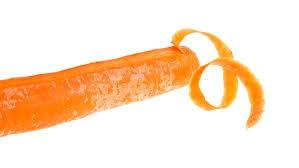Organic: (4, 1, 299, 168)
